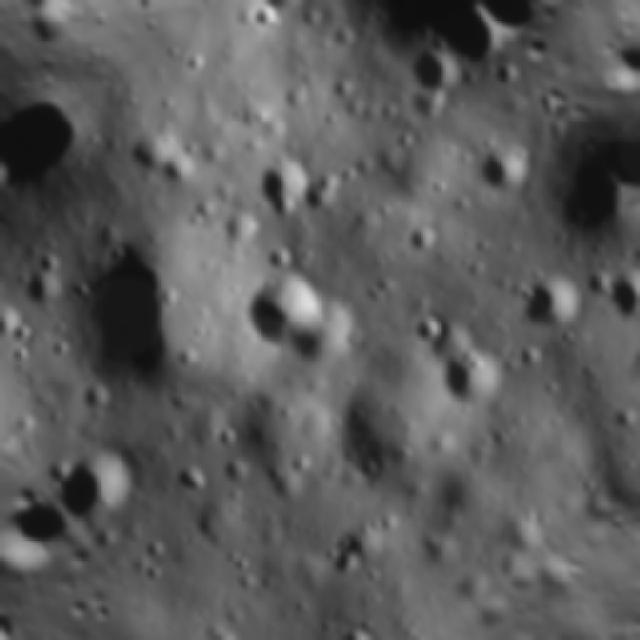crater: (35, 212, 242, 416), (300, 370, 448, 516), (218, 240, 342, 362), (40, 426, 160, 543), (526, 138, 640, 257), (292, 0, 473, 63), (0, 110, 95, 230), (277, 281, 380, 381), (418, 328, 518, 424), (111, 108, 206, 205), (238, 138, 328, 227), (428, 0, 518, 89), (504, 255, 590, 339), (454, 126, 538, 206), (4, 248, 76, 321), (393, 35, 465, 108), (290, 156, 356, 222), (592, 255, 640, 334), (167, 37, 224, 94), (390, 212, 445, 270), (164, 447, 219, 504), (400, 300, 454, 354), (238, 0, 288, 46), (316, 609, 390, 640), (238, 0, 325, 25), (0, 287, 34, 347), (238, 627, 306, 640), (0, 160, 18, 201)
